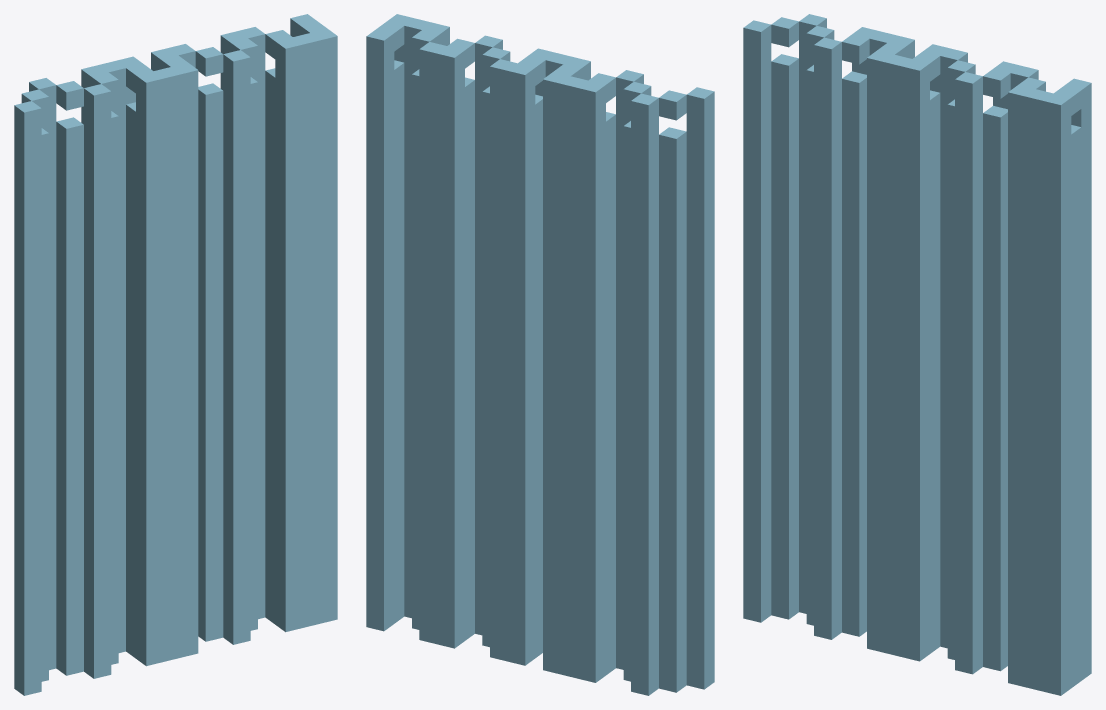
File: Curtain.gltf
3 renders of one model, left to right at view 1: azimuth 30°, elevation 25°; view 2: azimuth 150°, elevation 25°; view 3: azimuth 330°, elevation 25°, orthographic.
Visible parts, largest first — view 1: Layer.1; view 2: Layer.1; view 3: Layer.1.
Part boxes in pixels (x1,y1,x2,y2): Layer.1: (14,14,337,695); Layer.1: (366,14,714,695); Layer.1: (743,14,1091,695).
Bounding box in the file's own units: 18 × 32 × 3.
